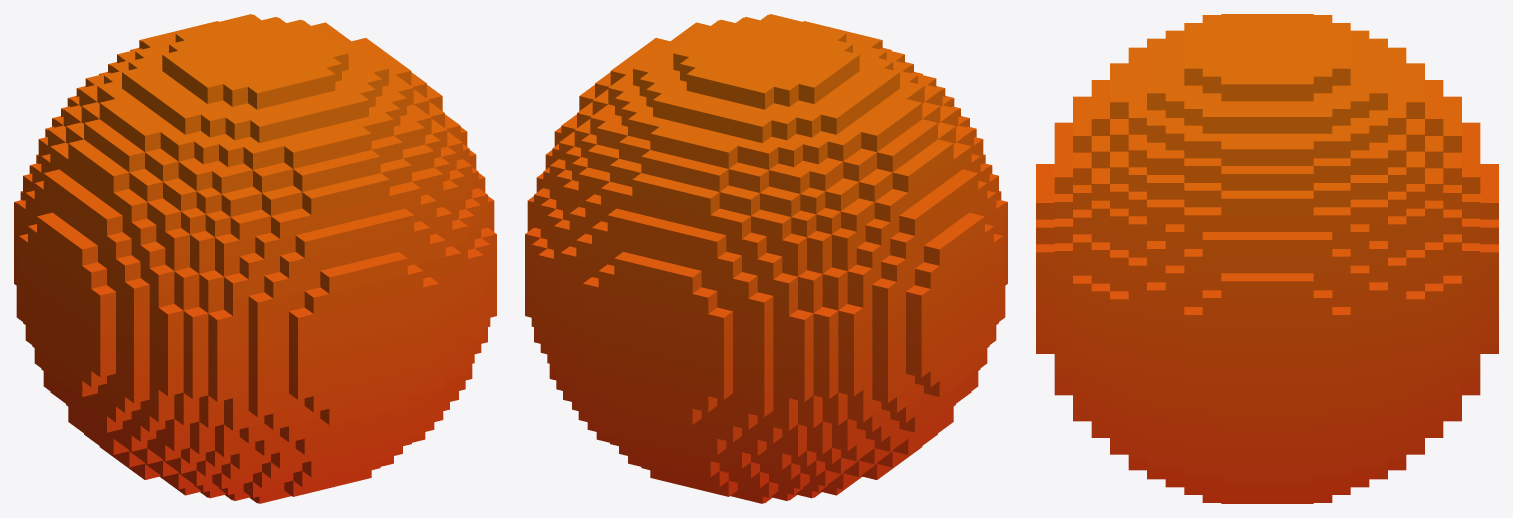
Rendered from FireBall.fbx.
The picture shows the model from 3 angles, left to right: view 1: azimuth 30°, elevation 25°; view 2: azimuth 150°, elevation 25°; view 3: azimuth 270°, elevation 25°; orthographic projection. The views are drawn at different scales.
Visible parts, largest first — view 1: FireBall; view 2: FireBall; view 3: FireBall.
Boxes of the visible parts, x1,y1,x2,y2 form: FireBall: (14,14,496,503); FireBall: (525,14,1007,503); FireBall: (1036,14,1498,503).
Size of the model in its own units: 25 by 25 by 25.
1 material, 1 textured.
